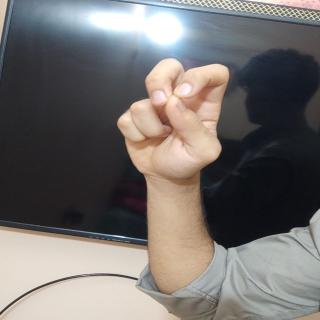QAAF: (118, 53, 230, 193)
